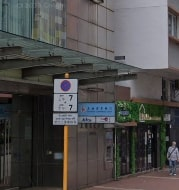Start Of No Stopping: (49, 78, 80, 113)
